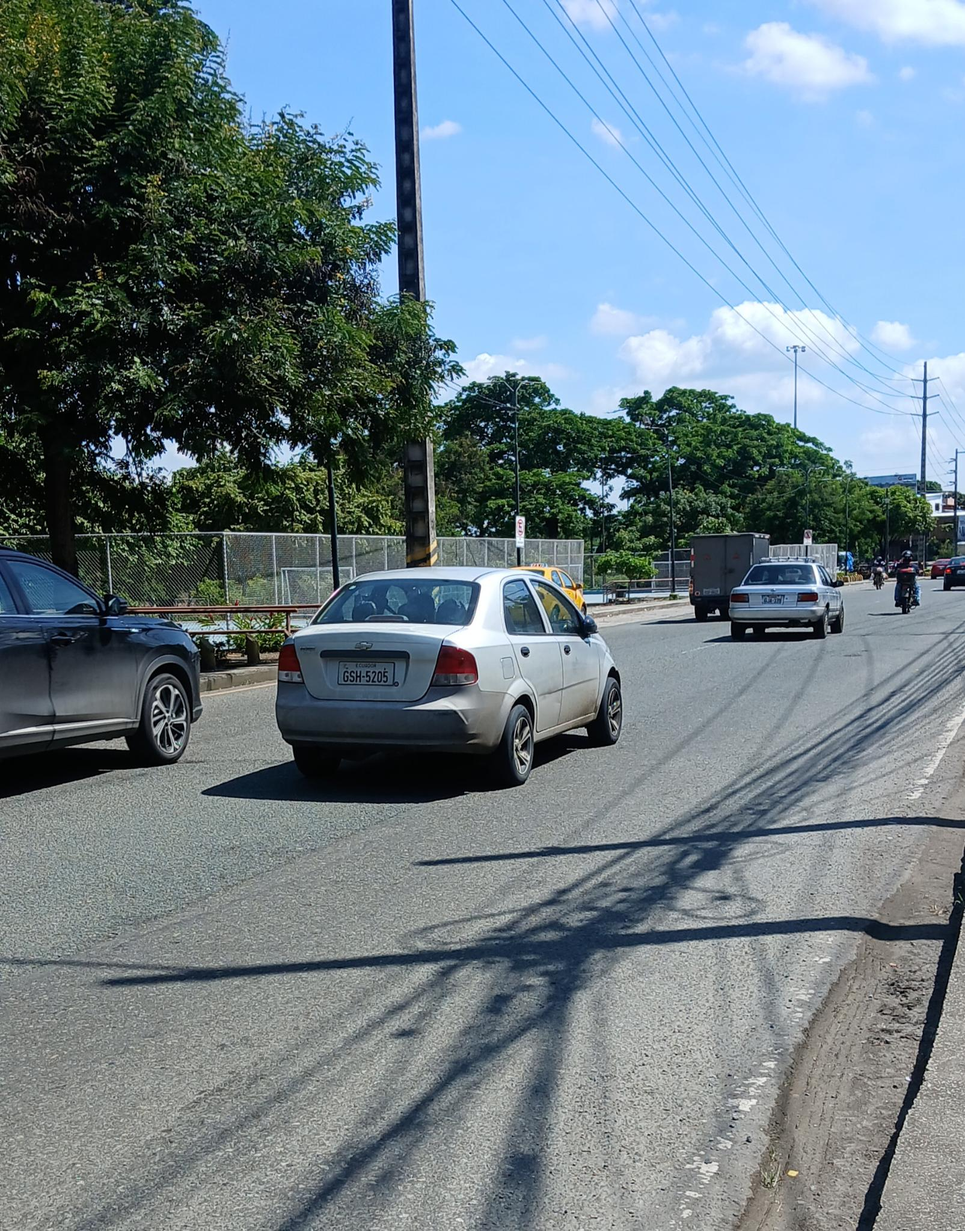license_plate: (337, 662, 397, 685), (760, 594, 787, 605), (702, 587, 719, 594)
